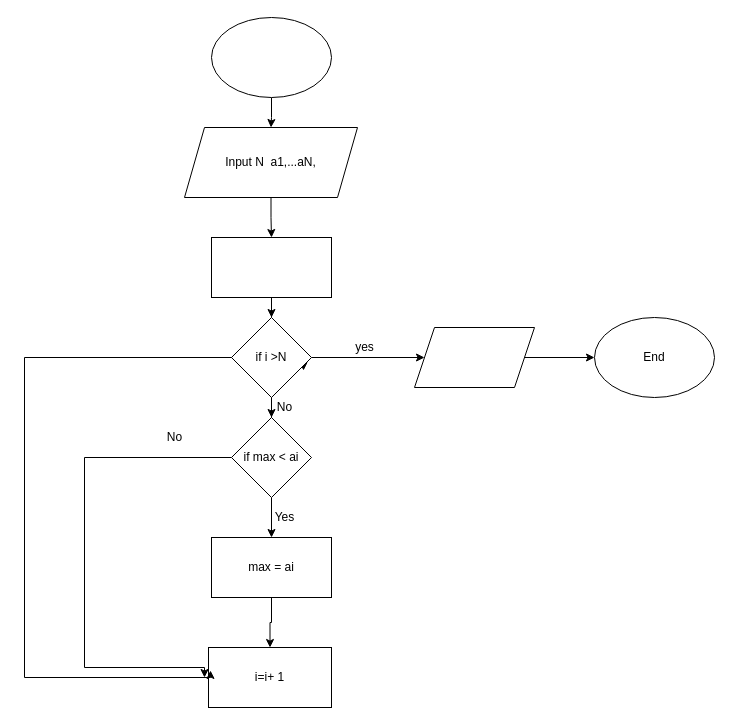
Image size: 732x725. Some labels were removed from this diagram. Here are the shapes that lost their labels. From the top down, the box of each, then its label:
(210, 16, 332, 98): start
(210, 236, 332, 298): Max= a1, i= 2
(414, 326, 534, 388): output Max
